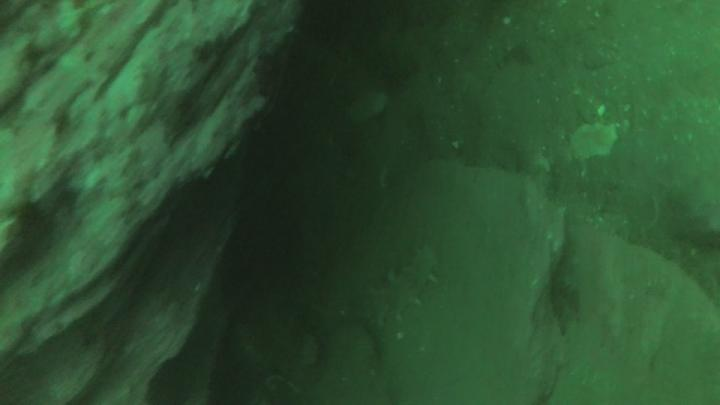holothurian: (324, 240, 441, 328)
